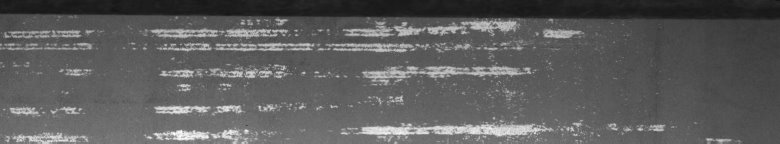kb: (4, 12, 672, 136)
